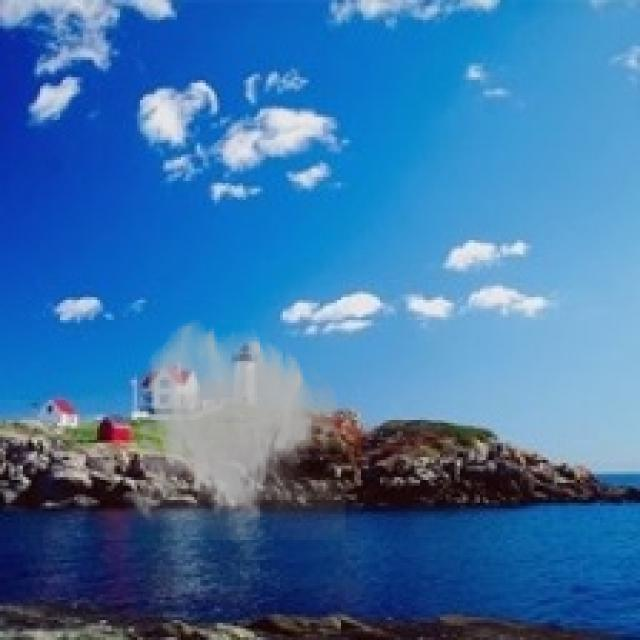smoke: (123, 317, 346, 540)
